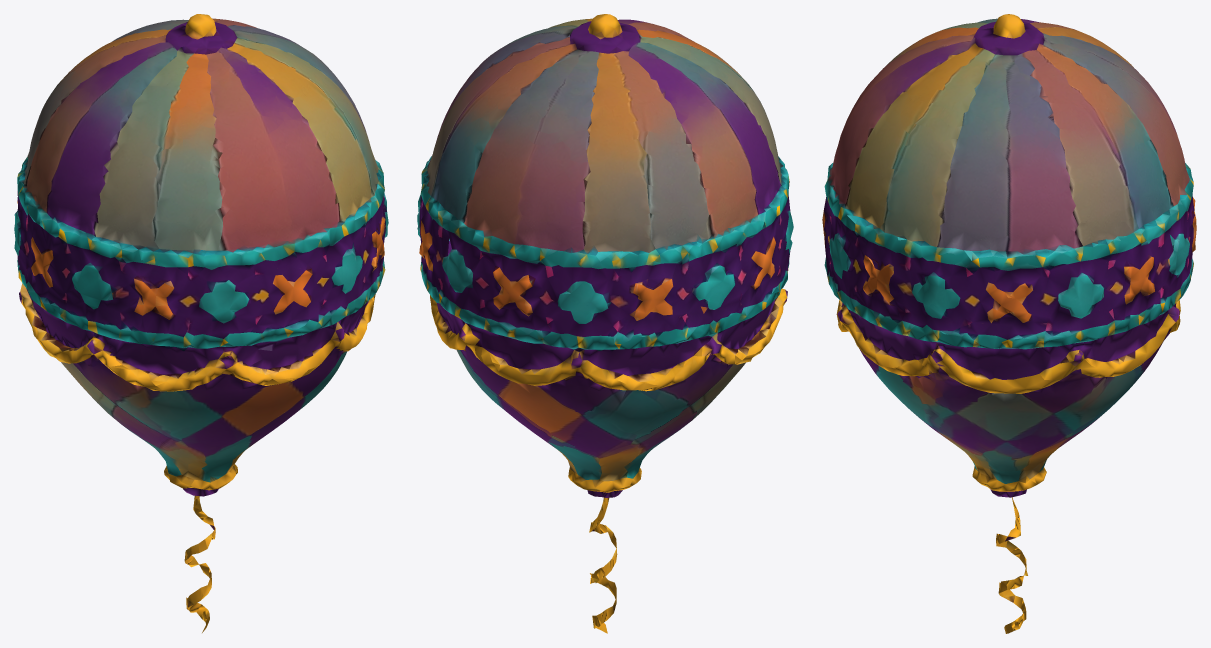
The model's file is BalaoAzul9k.glb.
3 renders of one model, left to right at view 1: azimuth 30°, elevation 25°; view 2: azimuth 150°, elevation 25°; view 3: azimuth 270°, elevation 25°, orthographic.
Parts seen in each view (by area): view 1: mesh_node; view 2: mesh_node; view 3: mesh_node.
Part boxes in pixels (x1,y1,x2,y2): mesh_node: [14, 14, 388, 632]; mesh_node: [417, 14, 793, 633]; mesh_node: [822, 14, 1196, 633].
Bounding box in the file's own units: 1.03 × 1.89 × 1.03.
Materials: 1 (1 with a texture image).
